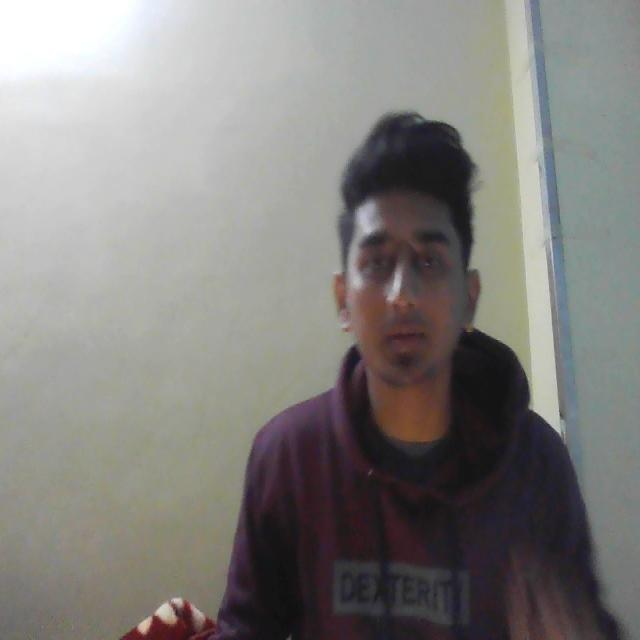real: (332, 125, 488, 420)
